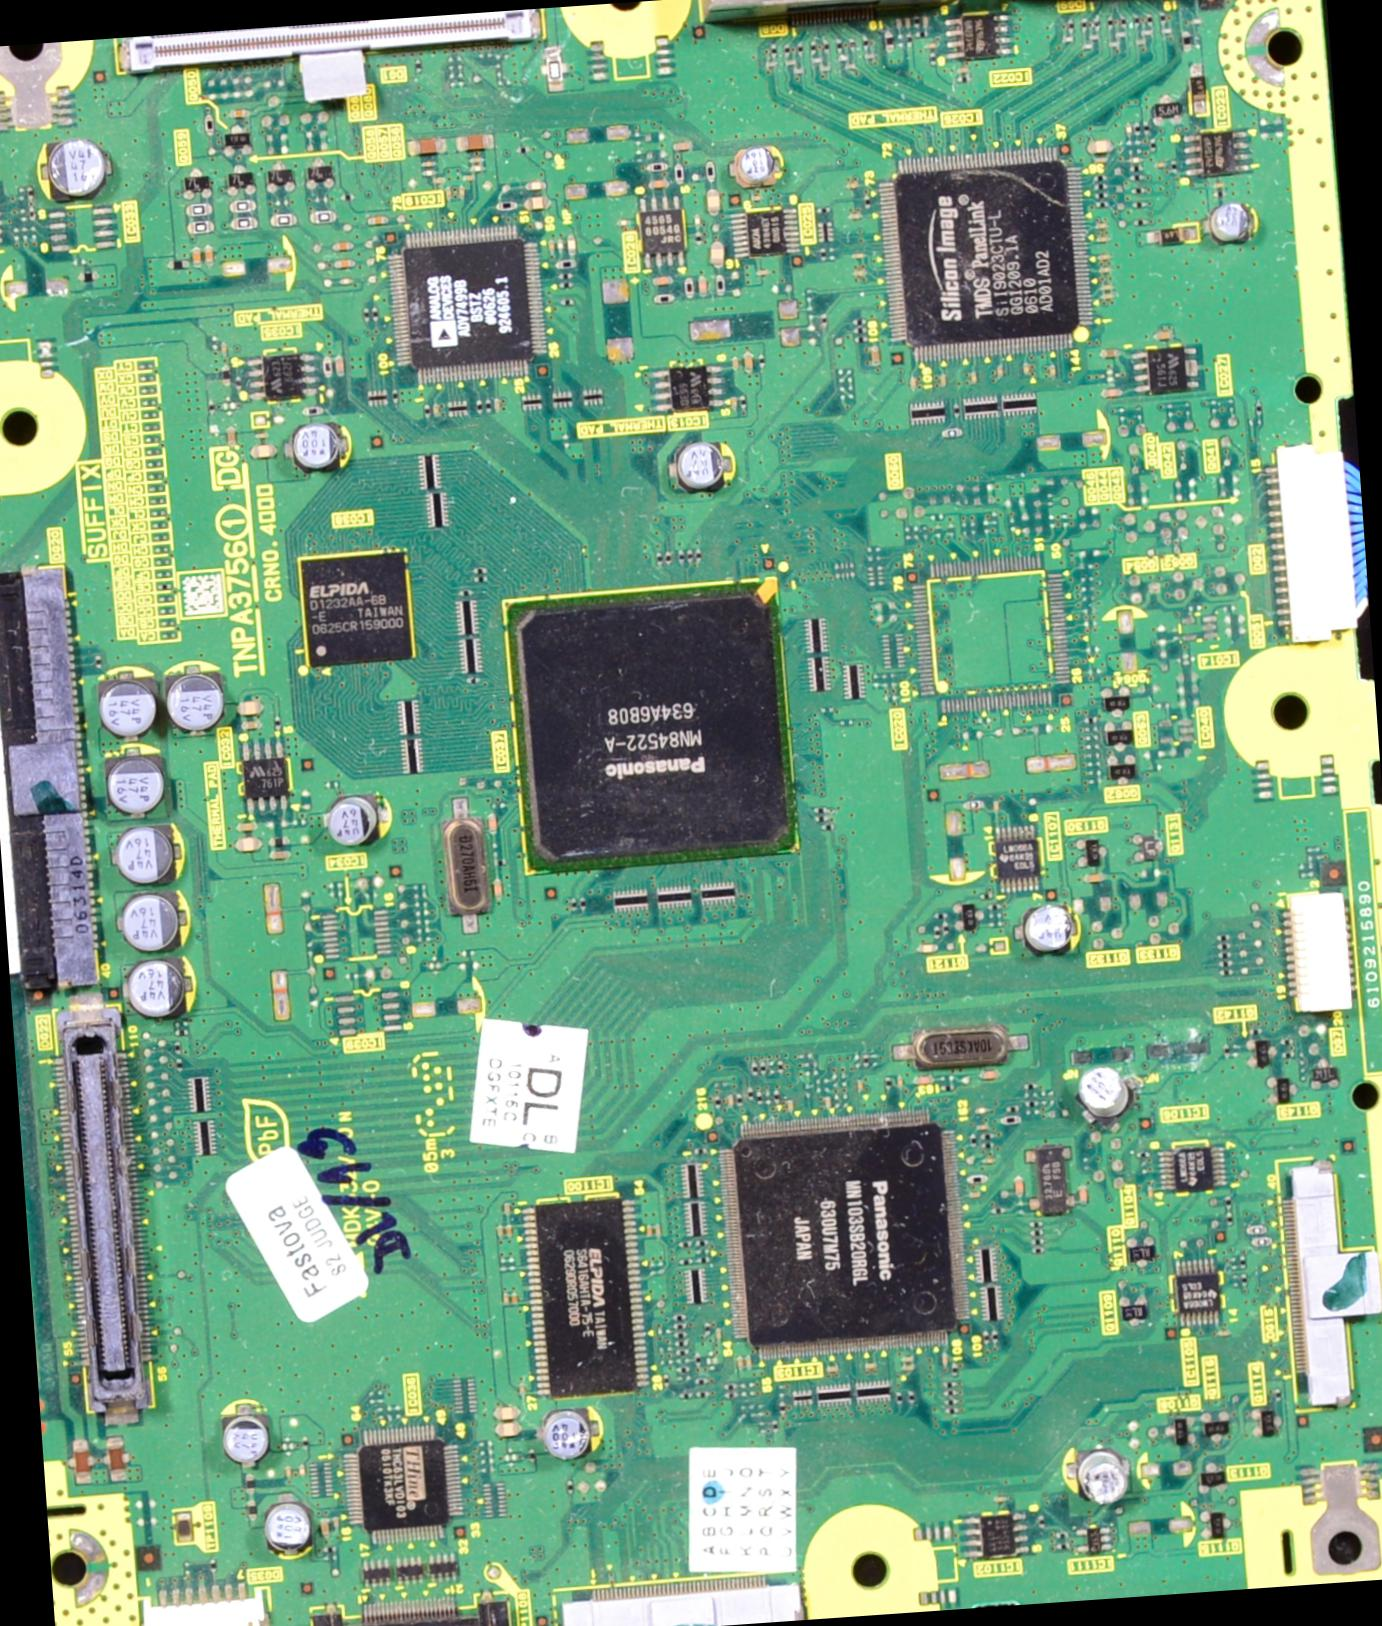Capacitor Jumper: (122, 953, 188, 1023), (106, 743, 165, 820), (95, 673, 162, 739), (119, 883, 181, 954), (117, 823, 184, 882), (44, 138, 106, 200), (169, 665, 223, 729), (288, 420, 350, 473), (673, 437, 729, 495), (540, 1409, 596, 1466), (1021, 901, 1076, 958), (1079, 1449, 1131, 1508), (328, 797, 374, 849), (223, 1413, 270, 1463), (265, 1504, 311, 1551), (734, 147, 776, 186), (1208, 204, 1252, 243), (406, 133, 451, 159), (452, 133, 496, 155), (233, 836, 267, 857), (492, 1404, 526, 1423), (494, 1420, 521, 1444), (709, 240, 728, 273), (703, 188, 724, 218), (521, 196, 551, 211), (1089, 138, 1116, 155), (651, 276, 681, 287), (696, 276, 709, 299)
IC: (496, 572, 799, 871), (707, 1111, 971, 1366), (876, 145, 1098, 369), (521, 1197, 650, 1403), (385, 225, 548, 387), (340, 1427, 465, 1548), (295, 551, 415, 665), (234, 740, 299, 818), (654, 361, 735, 418), (245, 350, 325, 407), (942, 4, 1013, 63), (958, 1508, 1034, 1563), (729, 207, 803, 262), (1172, 1257, 1227, 1330), (635, 193, 690, 259), (1183, 130, 1253, 181), (1130, 347, 1201, 396), (1157, 1145, 1231, 1191), (991, 825, 1041, 893), (1072, 1525, 1116, 1559)
Resistor Jumper: (228, 197, 262, 218), (307, 208, 337, 228), (182, 200, 217, 217), (267, 211, 299, 229), (184, 218, 217, 233), (226, 217, 262, 230)
Transistor: (1101, 713, 1141, 755), (1120, 1231, 1161, 1271), (1071, 834, 1109, 875), (1201, 1408, 1238, 1451), (1264, 1069, 1301, 1111), (300, 158, 339, 196), (219, 121, 255, 162), (947, 901, 990, 935), (1128, 829, 1165, 868), (1249, 1403, 1283, 1444), (1163, 1413, 1198, 1452), (1197, 1507, 1235, 1542), (1104, 753, 1143, 787), (225, 163, 262, 199), (1309, 1054, 1341, 1094), (1248, 1034, 1275, 1079), (263, 162, 299, 195), (1197, 1459, 1228, 1496), (1093, 685, 1131, 716), (1116, 1293, 1149, 1327), (181, 169, 214, 202)
